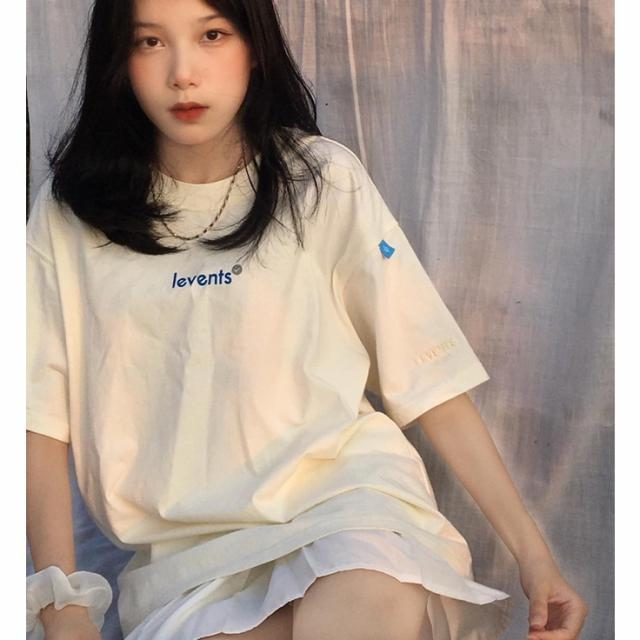Shirt: (21, 126, 494, 566)
